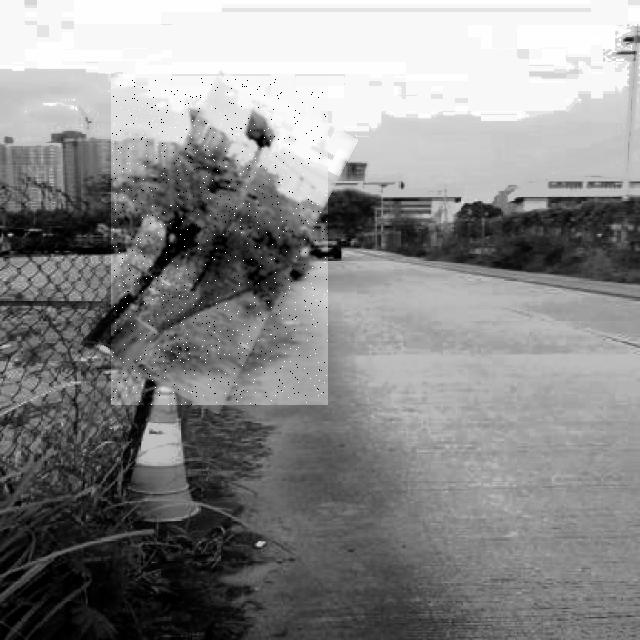anomaly-fence: (111, 78, 328, 405)
